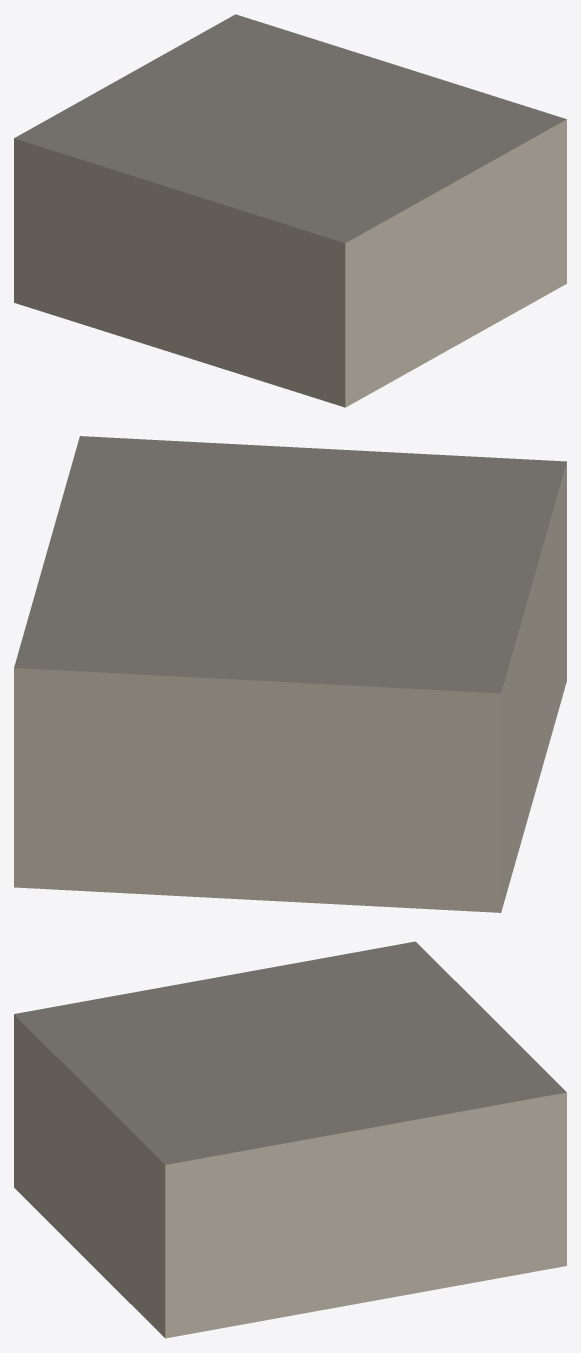
The picture shows the model from 3 angles, top to bottom: view 1: azimuth 30°, elevation 25°; view 2: azimuth 150°, elevation 25°; view 3: azimuth 270°, elevation 25°; orthographic projection. The views are drawn at different scales.
Parts seen in each view (by area): view 1: HP-w373833569; view 2: HP-w373833569; view 3: HP-w373833569.
Boxes of the visible parts, x1,y1,x2,y2 form: HP-w373833569: [14, 14, 566, 407]; HP-w373833569: [14, 436, 566, 912]; HP-w373833569: [14, 941, 566, 1338].
Size of the model in its own units: 49.75 by 18 by 52.
